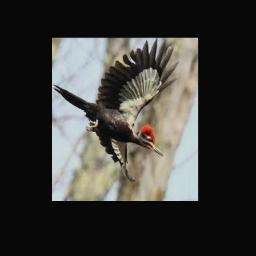Woodpecker: (53, 38, 179, 181)
